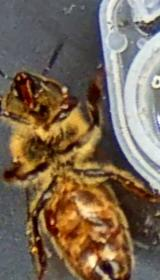varroa_mite: (40, 206, 63, 237)
